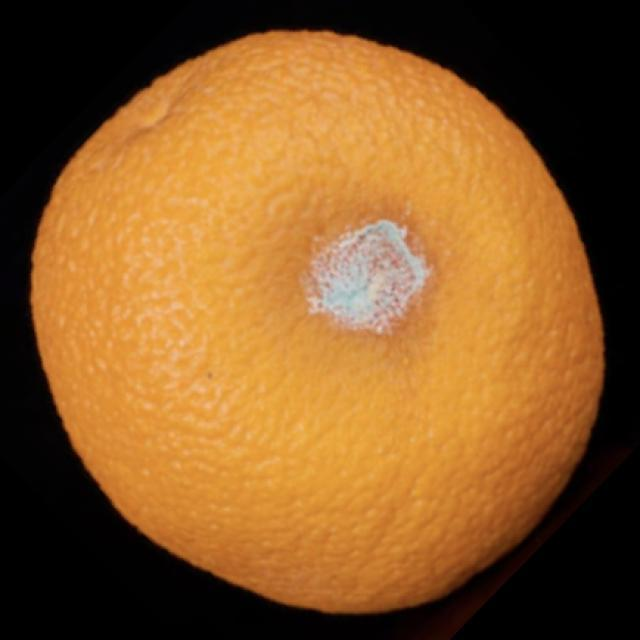sedikit-busuk: (31, 32, 603, 612)
